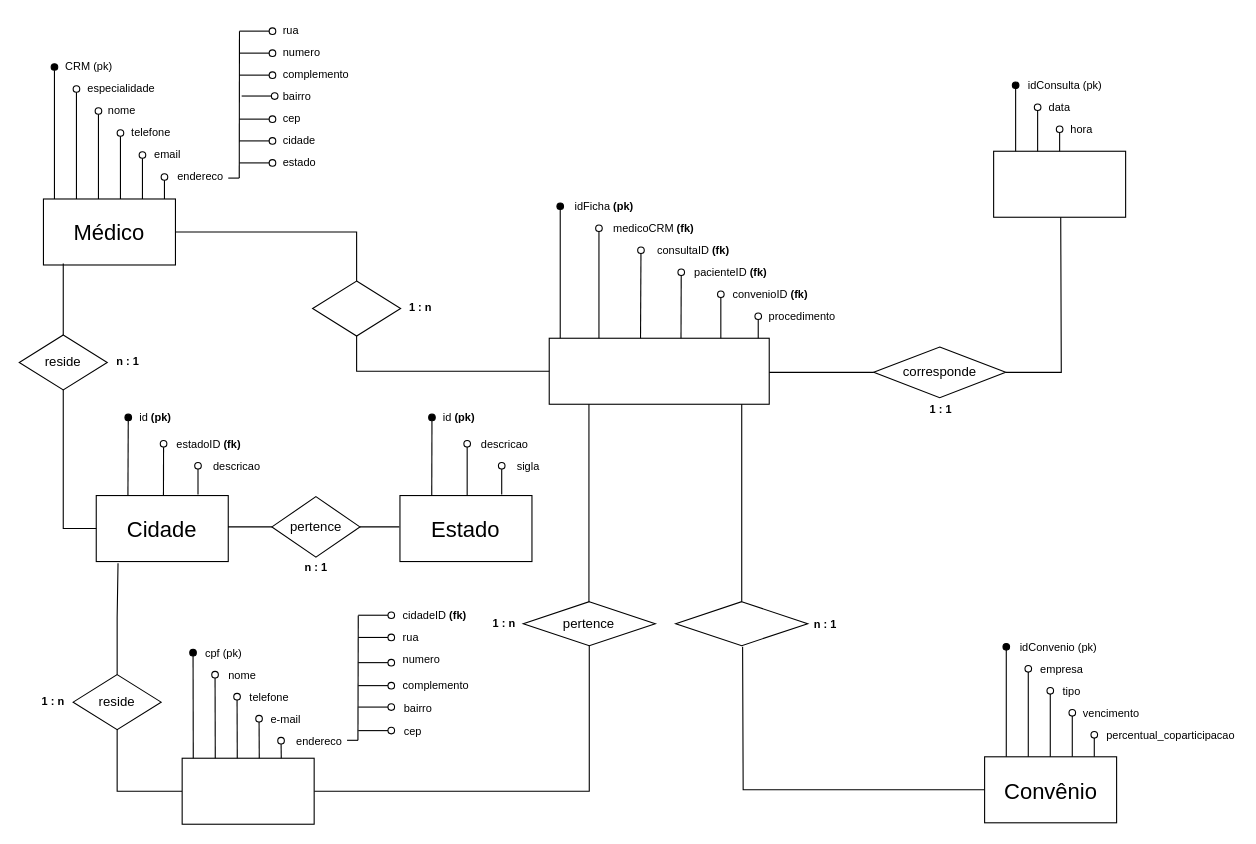
Image size: 1256x844. Some labels were removed from this diagram. The centre of each missing label's shape, as x and y in pixels:
"Consulta" belongs at point 1059,183.
"FichaAtendimento" belongs at point 658,370.
"Paciente" belongs at point 247,790.
"possui" belongs at point 741,623.
"preenche" belongs at point 356,308.
